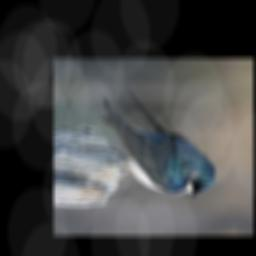Swallow: (90, 85, 226, 198)
